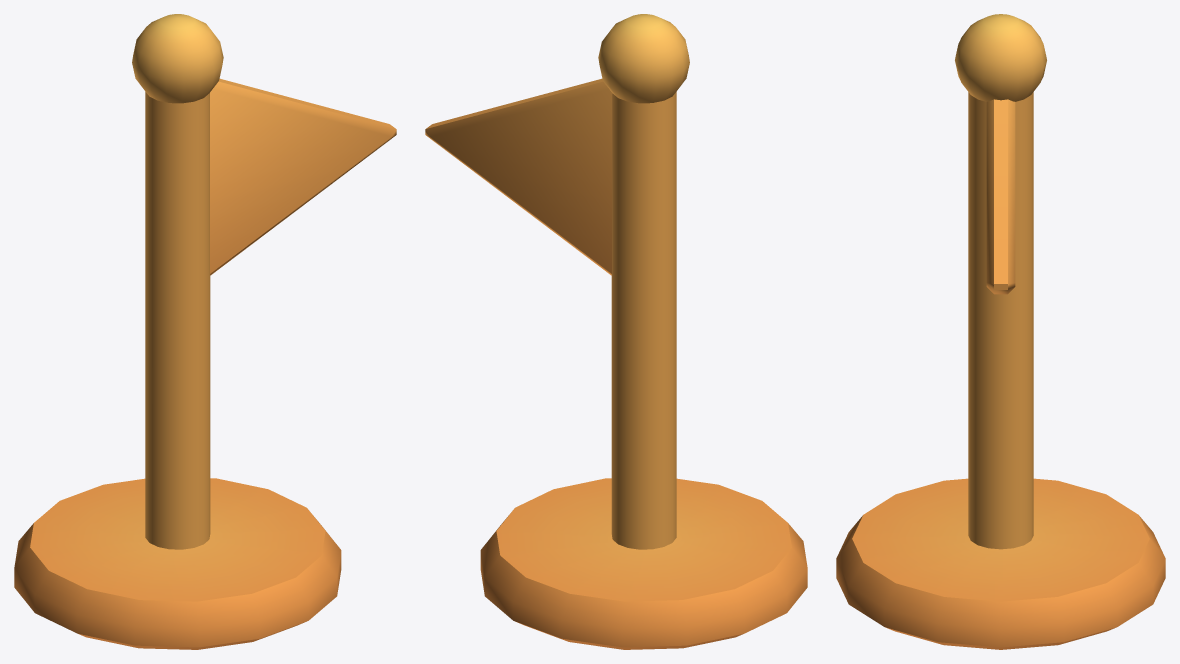
The model's file is flag_A_yellow.obj.
3 views of the same model, side by side, from view 1: azimuth 30°, elevation 25°; view 2: azimuth 150°, elevation 25°; view 3: azimuth 270°, elevation 25° (orthographic).
Visible parts, largest first — view 1: flag_A_yellow; view 2: flag_A_yellow; view 3: flag_A_yellow.
Boxes of the visible parts, left/top/right/bottom form: flag_A_yellow: left=14, top=14, right=396, bottom=649; flag_A_yellow: left=425, top=14, right=807, bottom=649; flag_A_yellow: left=836, top=14, right=1165, bottom=649.
Size of the model in its own units: 0.9404 by 1.43 by 0.75.
Materials: 1 (1 with a texture image).
